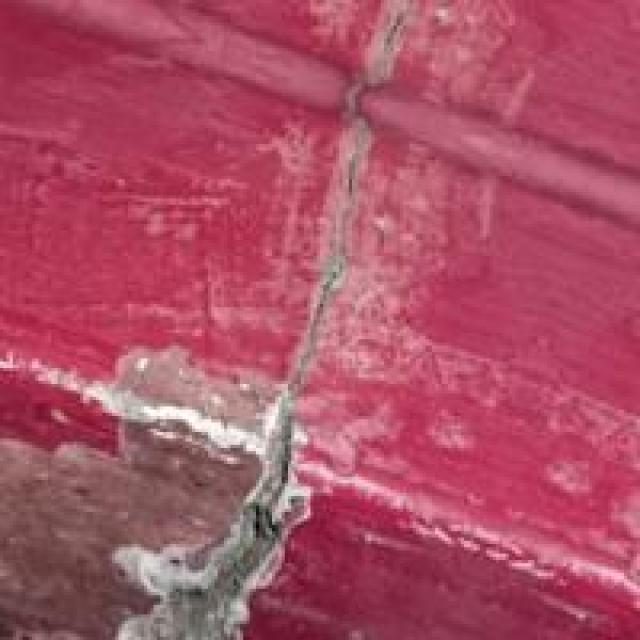crack: (112, 26, 506, 636)
